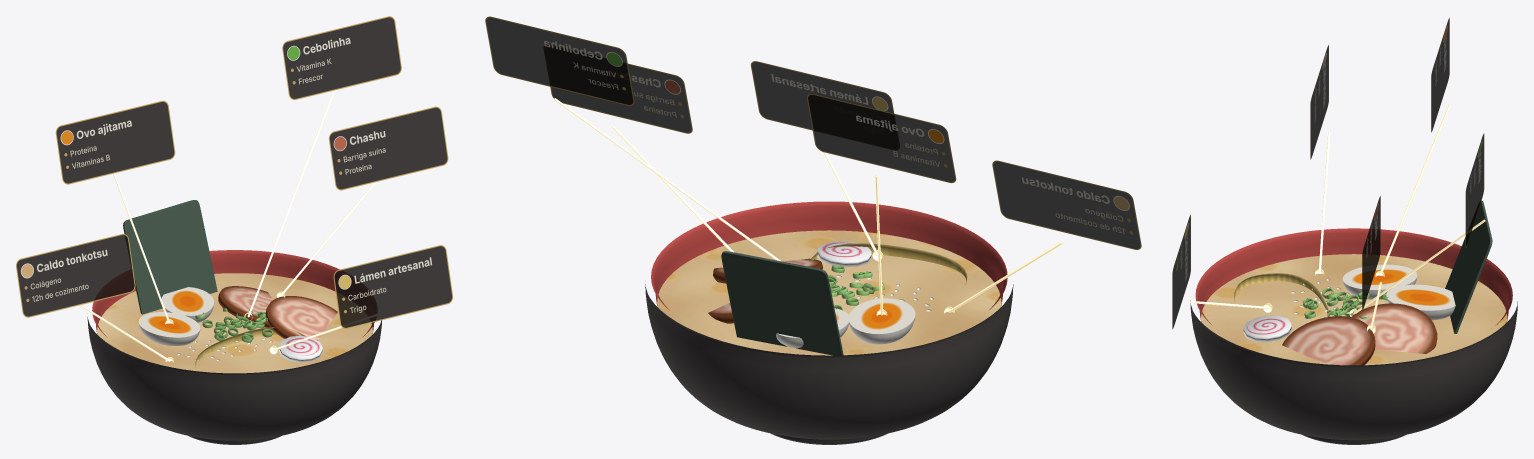
File: lamen.glb
3 views of the same model, side by side, from view 1: azimuth 30°, elevation 25°; view 2: azimuth 150°, elevation 25°; view 3: azimuth 270°, elevation 25° (orthographic). The views are drawn at different scales.
Parts seen in each view (by area): view 1: dish; view 2: dish; view 3: dish.
Boxes of the visible parts, x1,y1,x2,y2 form: dish: (16, 16, 452, 444); dish: (485, 16, 1141, 444); dish: (1172, 17, 1517, 444).
Size of the model in its own units: 0.335 by 0.2192 by 0.2015.
Materials: 17 (10 with a texture image).
